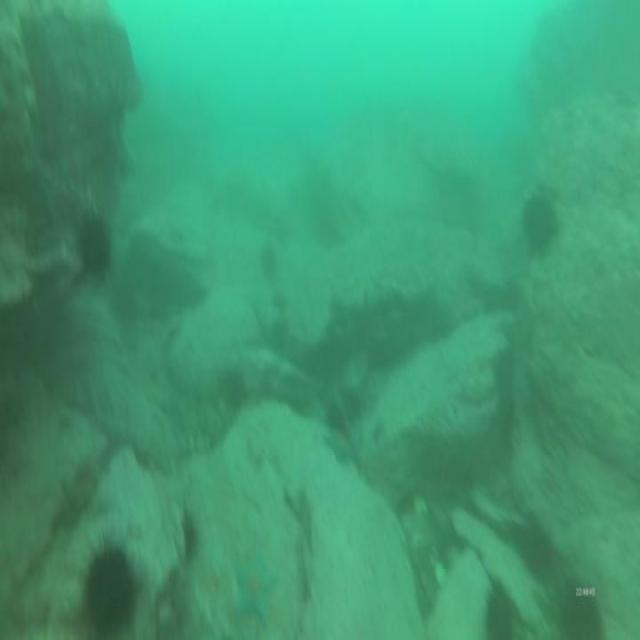echinus: (80, 534, 141, 640), (557, 573, 605, 640), (519, 191, 561, 258), (518, 512, 556, 585), (75, 214, 113, 282), (479, 581, 516, 640), (179, 507, 199, 566)
starfish: (228, 547, 280, 624), (218, 362, 250, 414), (256, 240, 281, 284)
